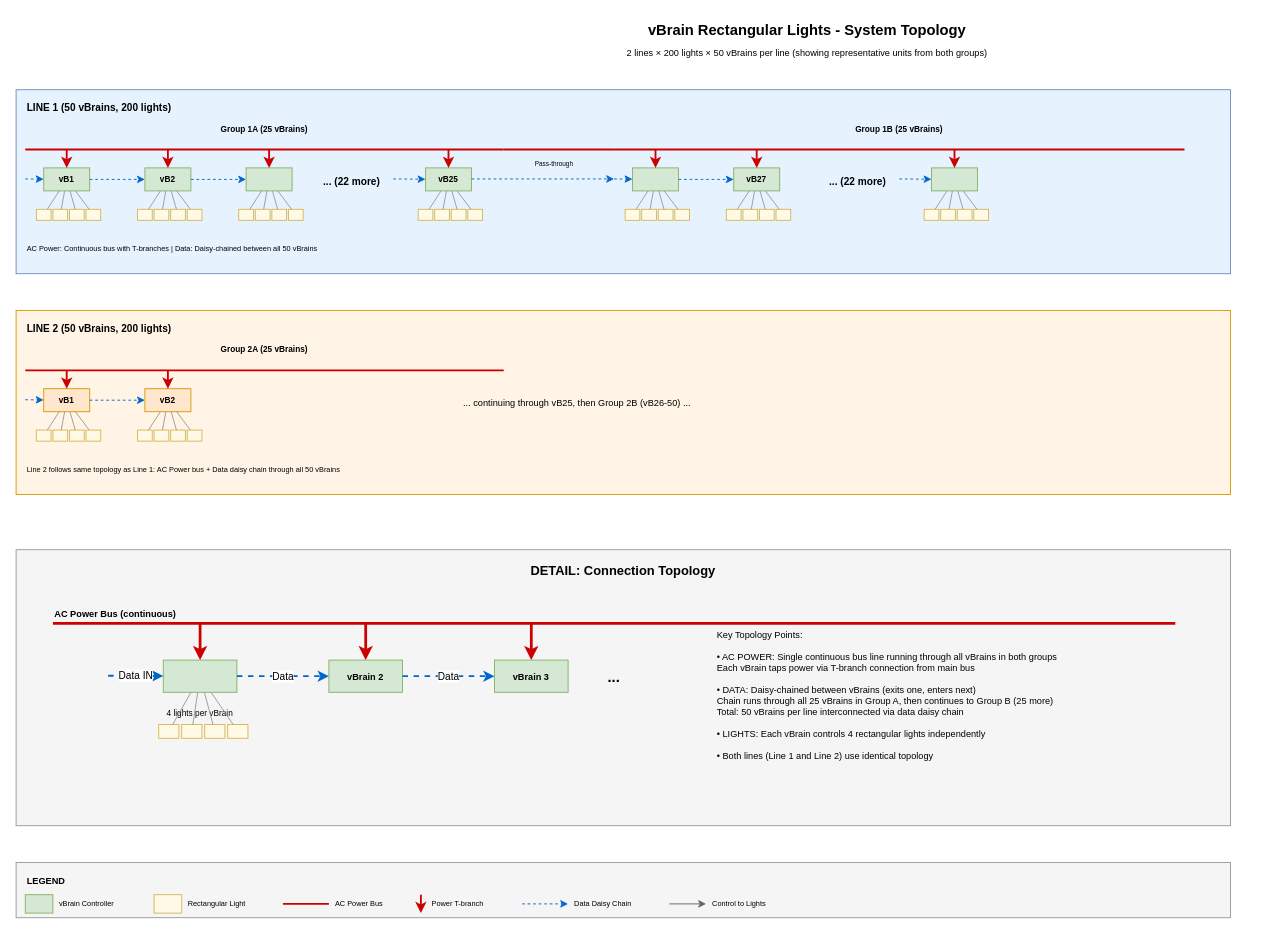
This 1283x937 diagram has some shape labels left out. The centre of each missing label's shape, as x and y in pixels:
"vB26" belongs at (655,179).
"vB3" belongs at (268,179).
"vB50" belongs at (954,179).
"vBrain 1" belongs at (199,675).
